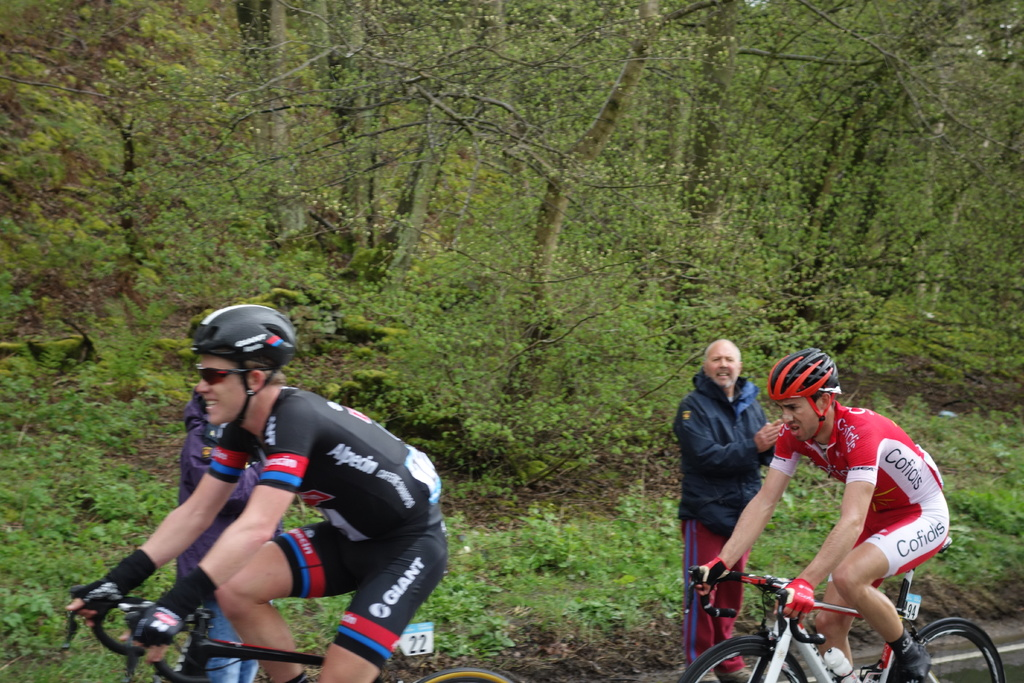Tree: (0, 0, 1024, 497)
